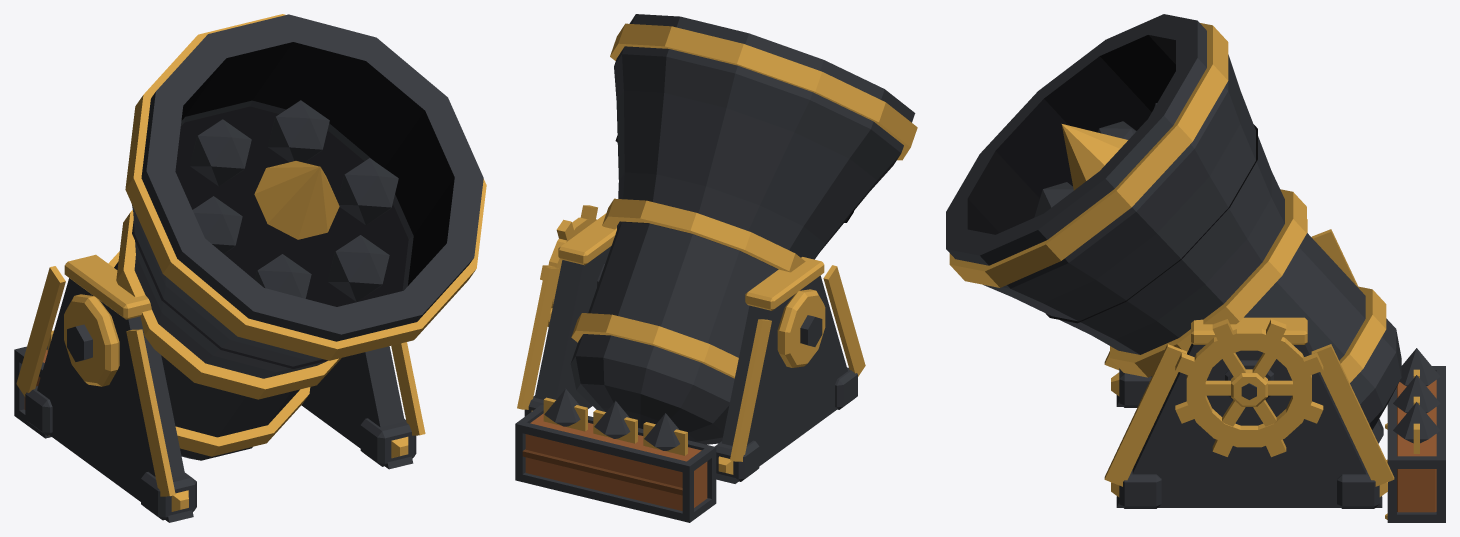
File: MortarB2.obj
The picture shows the model from 3 angles, left to right: view 1: azimuth 30°, elevation 25°; view 2: azimuth 150°, elevation 25°; view 3: azimuth 270°, elevation 25°; orthographic projection. The views are drawn at different scales.
Visible parts, largest first — view 1: MortarB2; view 2: MortarB2; view 3: MortarB2.
Boxes of the visible parts, left/top/right/bottom form: MortarB2: left=14, top=14, right=486, bottom=522; MortarB2: left=515, top=14, right=917, bottom=522; MortarB2: left=946, top=14, right=1445, bottom=522.
Size of the model in its own units: 0.7766 by 1.09 by 1.13.
